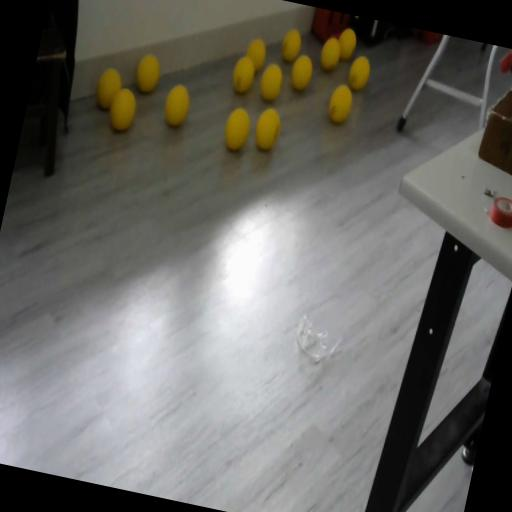FUEL: (104, 84, 140, 134), (219, 104, 254, 154), (250, 104, 284, 152), (92, 64, 124, 112), (160, 81, 192, 128), (131, 51, 163, 95), (324, 81, 354, 125), (256, 60, 286, 104), (345, 52, 373, 93), (242, 34, 270, 74), (288, 52, 316, 92), (317, 32, 344, 72), (278, 24, 304, 63), (334, 25, 358, 61)
